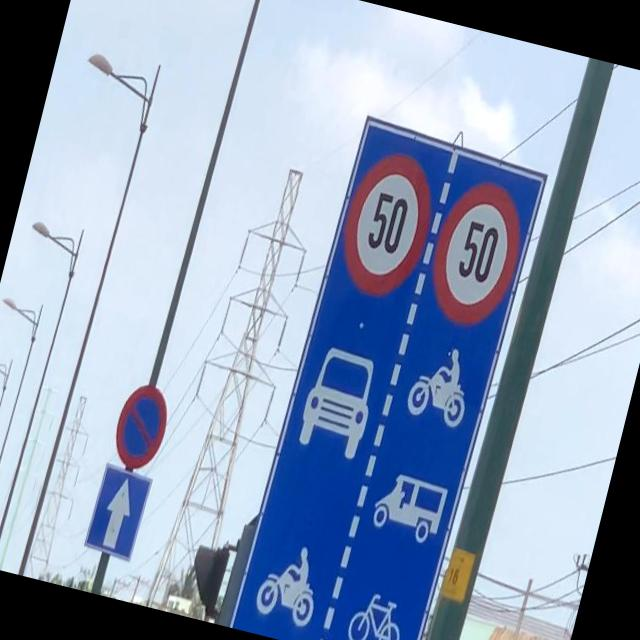I-407a: (86, 464, 152, 562)
P-131a: (107, 378, 174, 471)
